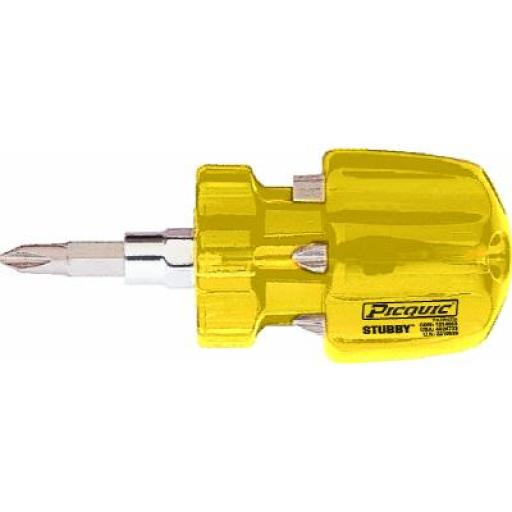screwdriver: (0, 152, 512, 364)
